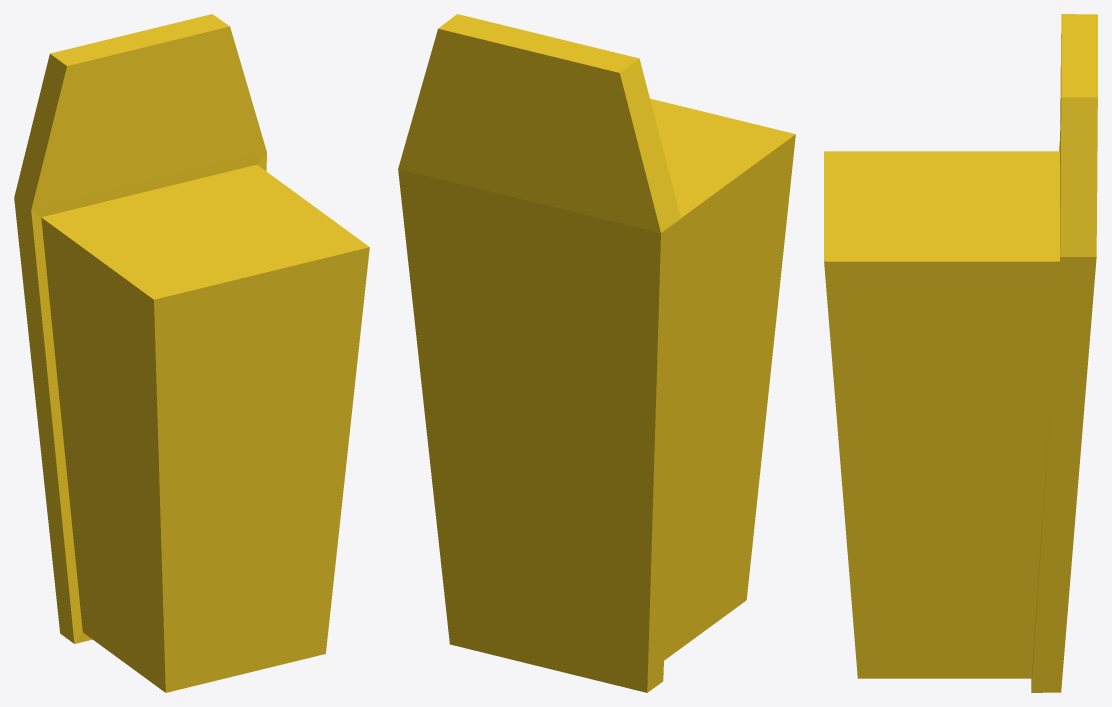
The model's file is Zeus_LegGuard.FBX.
The picture shows the model from 3 angles, left to right: view 1: azimuth 30°, elevation 25°; view 2: azimuth 150°, elevation 25°; view 3: azimuth 270°, elevation 25°; orthographic projection. The views are drawn at different scales.
Visible parts, largest first — view 1: LegGuard_Zeus; view 2: LegGuard_Zeus; view 3: LegGuard_Zeus.
Boxes of the visible parts, <box> form: LegGuard_Zeus: <box>14,14,369,692</box>; LegGuard_Zeus: <box>398,14,795,692</box>; LegGuard_Zeus: <box>824,14,1097,692</box>.
Bounding box in the file's own units: 5.65 × 5.43 × 12.95.
1 material, 1 textured.
